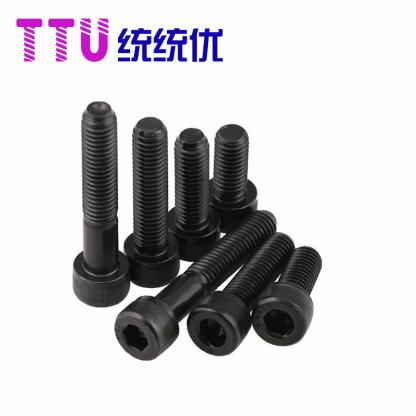FOD: (113, 207, 278, 361), (184, 230, 299, 357), (69, 100, 133, 309), (122, 112, 182, 290), (164, 126, 224, 264), (251, 244, 323, 348), (204, 124, 260, 230)
